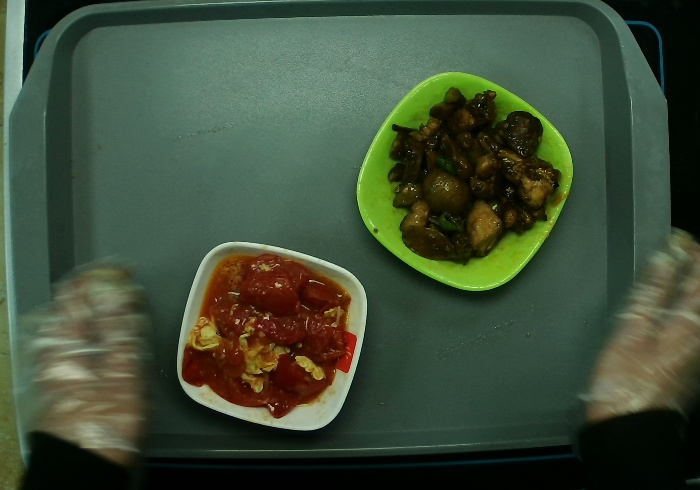SHKJ-Bai_Se_Xiao_Fang_Die: (175, 239, 370, 430)
SHKJ-Lv_Se_Cai_Die: (356, 71, 576, 293)
